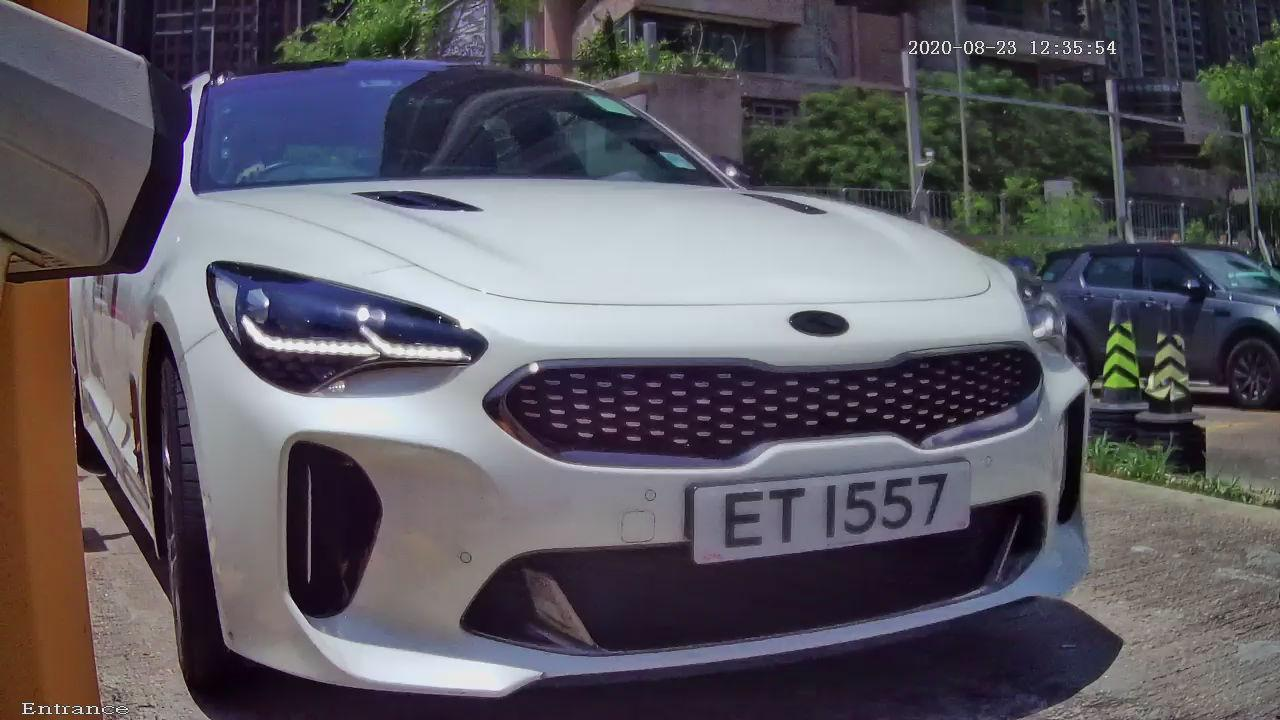License Plate: (637, 399, 1028, 608)
